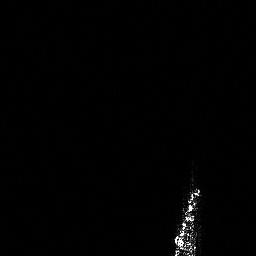ship: (172, 186, 201, 256)
